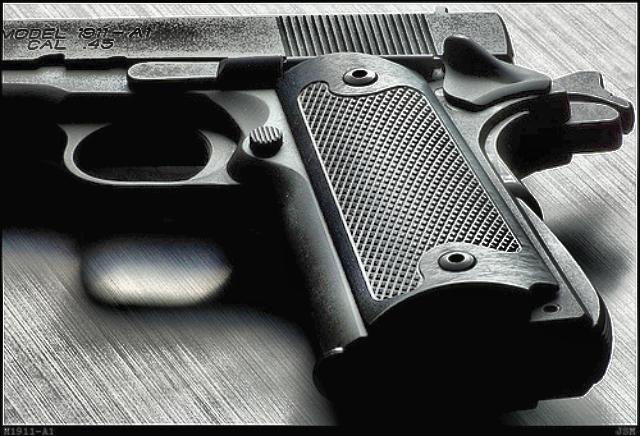pistol: (1, 3, 632, 410)
